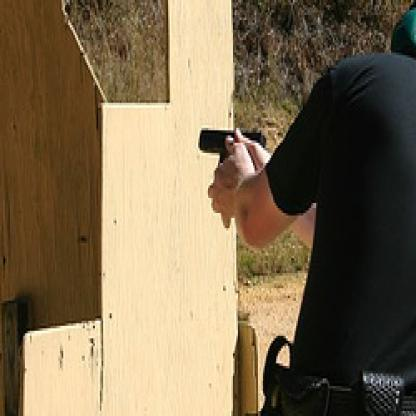gun: (191, 110, 268, 216)
